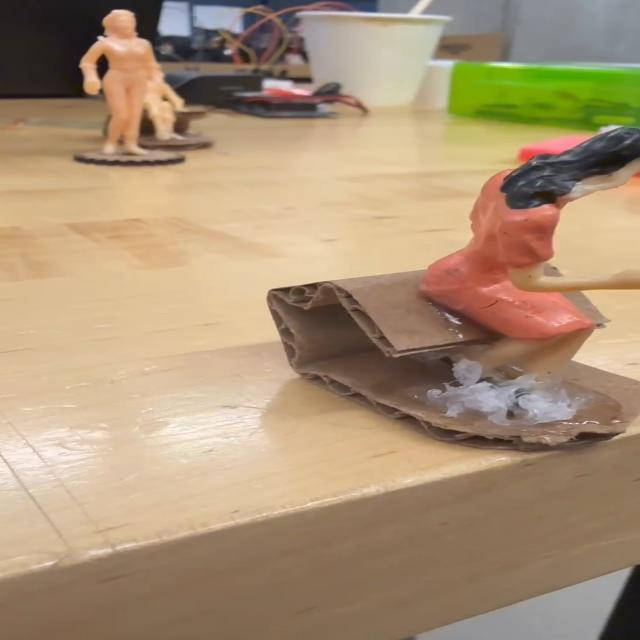Authorized: (418, 121, 640, 424)
